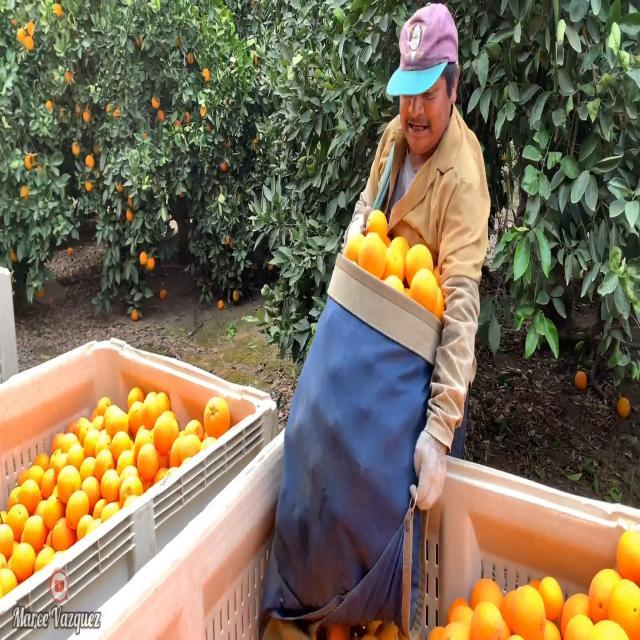Jeruk Sudah Matang: (506, 575, 548, 640), (588, 557, 622, 621), (608, 570, 639, 640), (408, 262, 444, 320), (356, 226, 389, 282), (198, 388, 234, 434), (616, 528, 640, 588), (404, 236, 434, 283), (384, 237, 410, 289), (364, 200, 392, 244), (136, 436, 160, 487), (562, 609, 600, 640), (152, 412, 180, 451), (65, 488, 91, 528), (56, 461, 80, 501), (125, 399, 148, 436), (617, 391, 631, 417), (576, 366, 588, 393), (145, 255, 157, 272), (138, 248, 148, 268), (85, 151, 95, 169), (158, 286, 168, 302), (202, 66, 212, 82), (150, 95, 161, 109), (230, 286, 240, 301), (157, 108, 166, 124), (124, 208, 134, 222), (72, 138, 80, 155), (45, 96, 54, 111), (130, 307, 138, 322), (216, 298, 224, 310), (66, 244, 74, 256), (85, 180, 92, 192)
